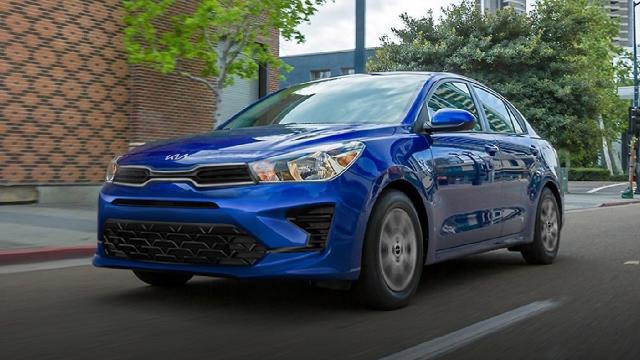kia: (91, 72, 563, 307)
